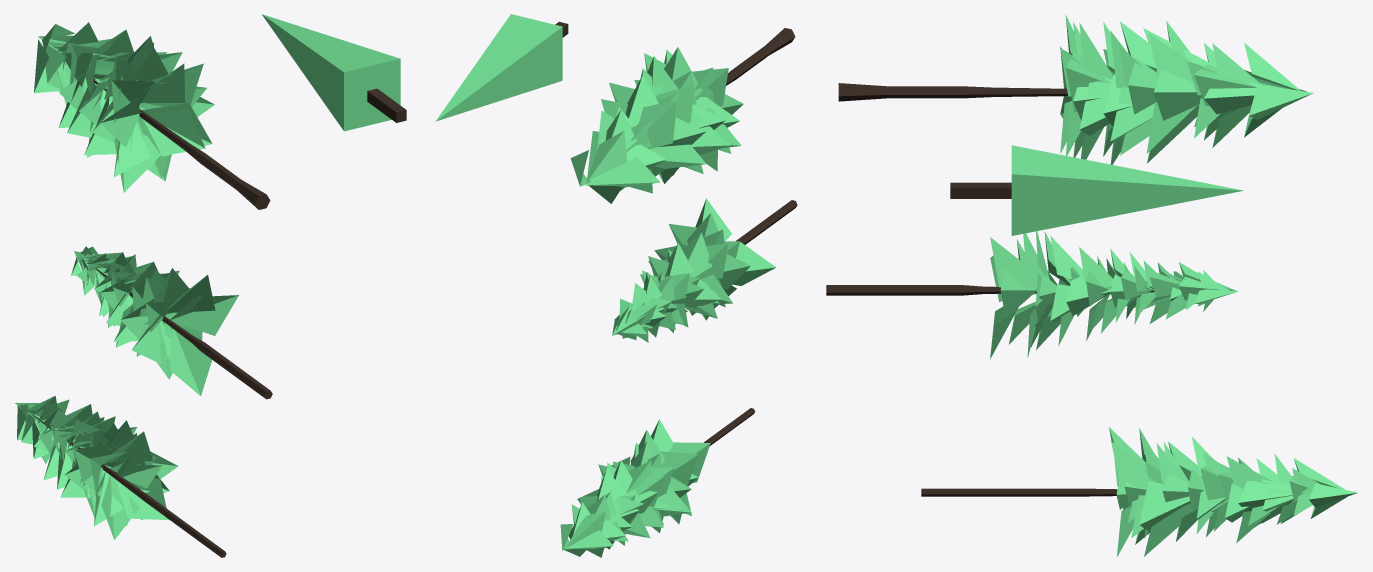
Rendered from Trees.fbx.
3 renders of one model, left to right at view 1: azimuth 30°, elevation 25°; view 2: azimuth 150°, elevation 25°; view 3: azimuth 270°, elevation 25°, orthographic. The views are drawn at different scales.
Parts seen in each view (by area): view 1: Fir Tree 3, Fir Tree 2, Fir Tree 1, Low Poly Tree; view 2: Fir Tree 3, Fir Tree 1, Fir Tree 2, Low Poly Tree; view 3: Fir Tree 3, Fir Tree 2, Fir Tree 1, Low Poly Tree.
Part boxes in pixels (x1=…): Fir Tree 3: x1=34, y1=22, x2=270, y2=209; Fir Tree 2: x1=15, y1=395, x2=226, y2=557; Fir Tree 1: x1=71, y1=246, x2=272, y2=399; Low Poly Tree: x1=262, y1=14, x2=406, y2=131; Fir Tree 3: x1=570, y1=28, x2=795, y2=203; Fir Tree 1: x1=612, y1=198, x2=797, y2=342; Fir Tree 2: x1=560, y1=408, x2=755, y2=557; Low Poly Tree: x1=435, y1=14, x2=568, y2=121; Fir Tree 3: x1=838, y1=14, x2=1313, y2=164; Fir Tree 2: x1=921, y1=427, x2=1357, y2=557; Fir Tree 1: x1=826, y1=231, x2=1238, y2=359; Low Poly Tree: x1=950, y1=145, x2=1243, y2=235.
Size of the model in its own units: 7318 by 12253 by 11203.
